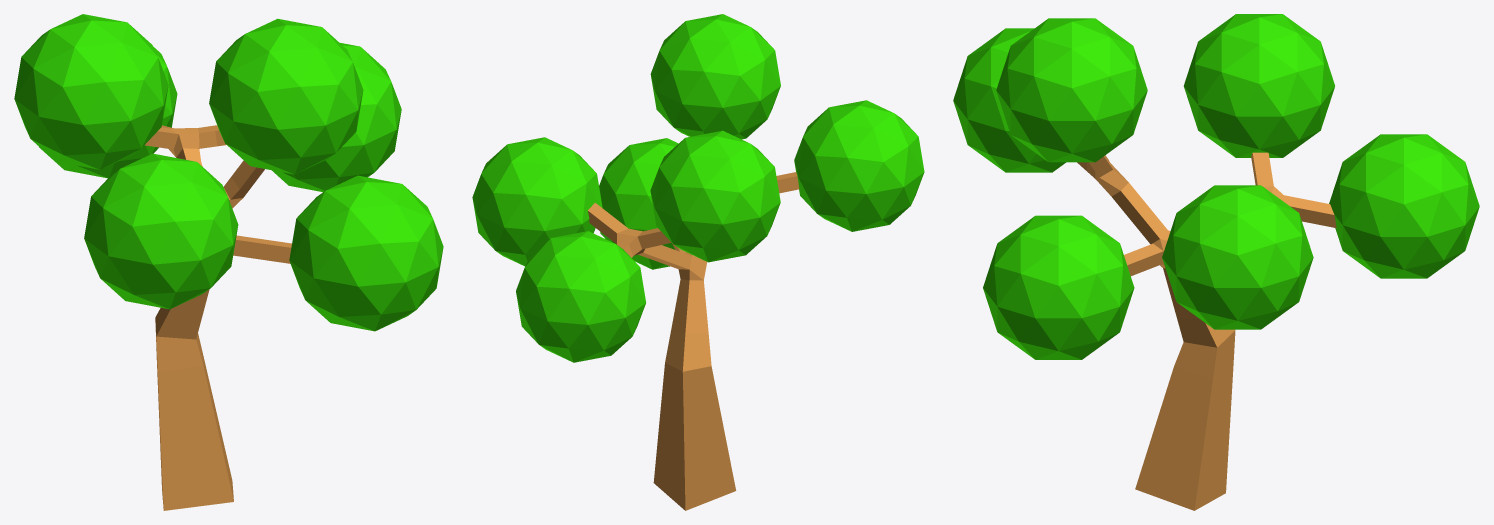
File: TREE.glb
3 views of the same model, side by side, from view 1: azimuth 30°, elevation 25°; view 2: azimuth 150°, elevation 25°; view 3: azimuth 270°, elevation 25° (orthographic). The views are drawn at different scales.
Parts seen in each view (by area): view 1: Cube; view 2: Cube; view 3: Cube.
Part boxes in pixels (x1,y1,x2,y2): Cube: (14,14,443,510); Cube: (472,14,924,510); Cube: (953,14,1479,510).
Bounding box in the file's own units: 4.8 × 5.84 × 5.66.
